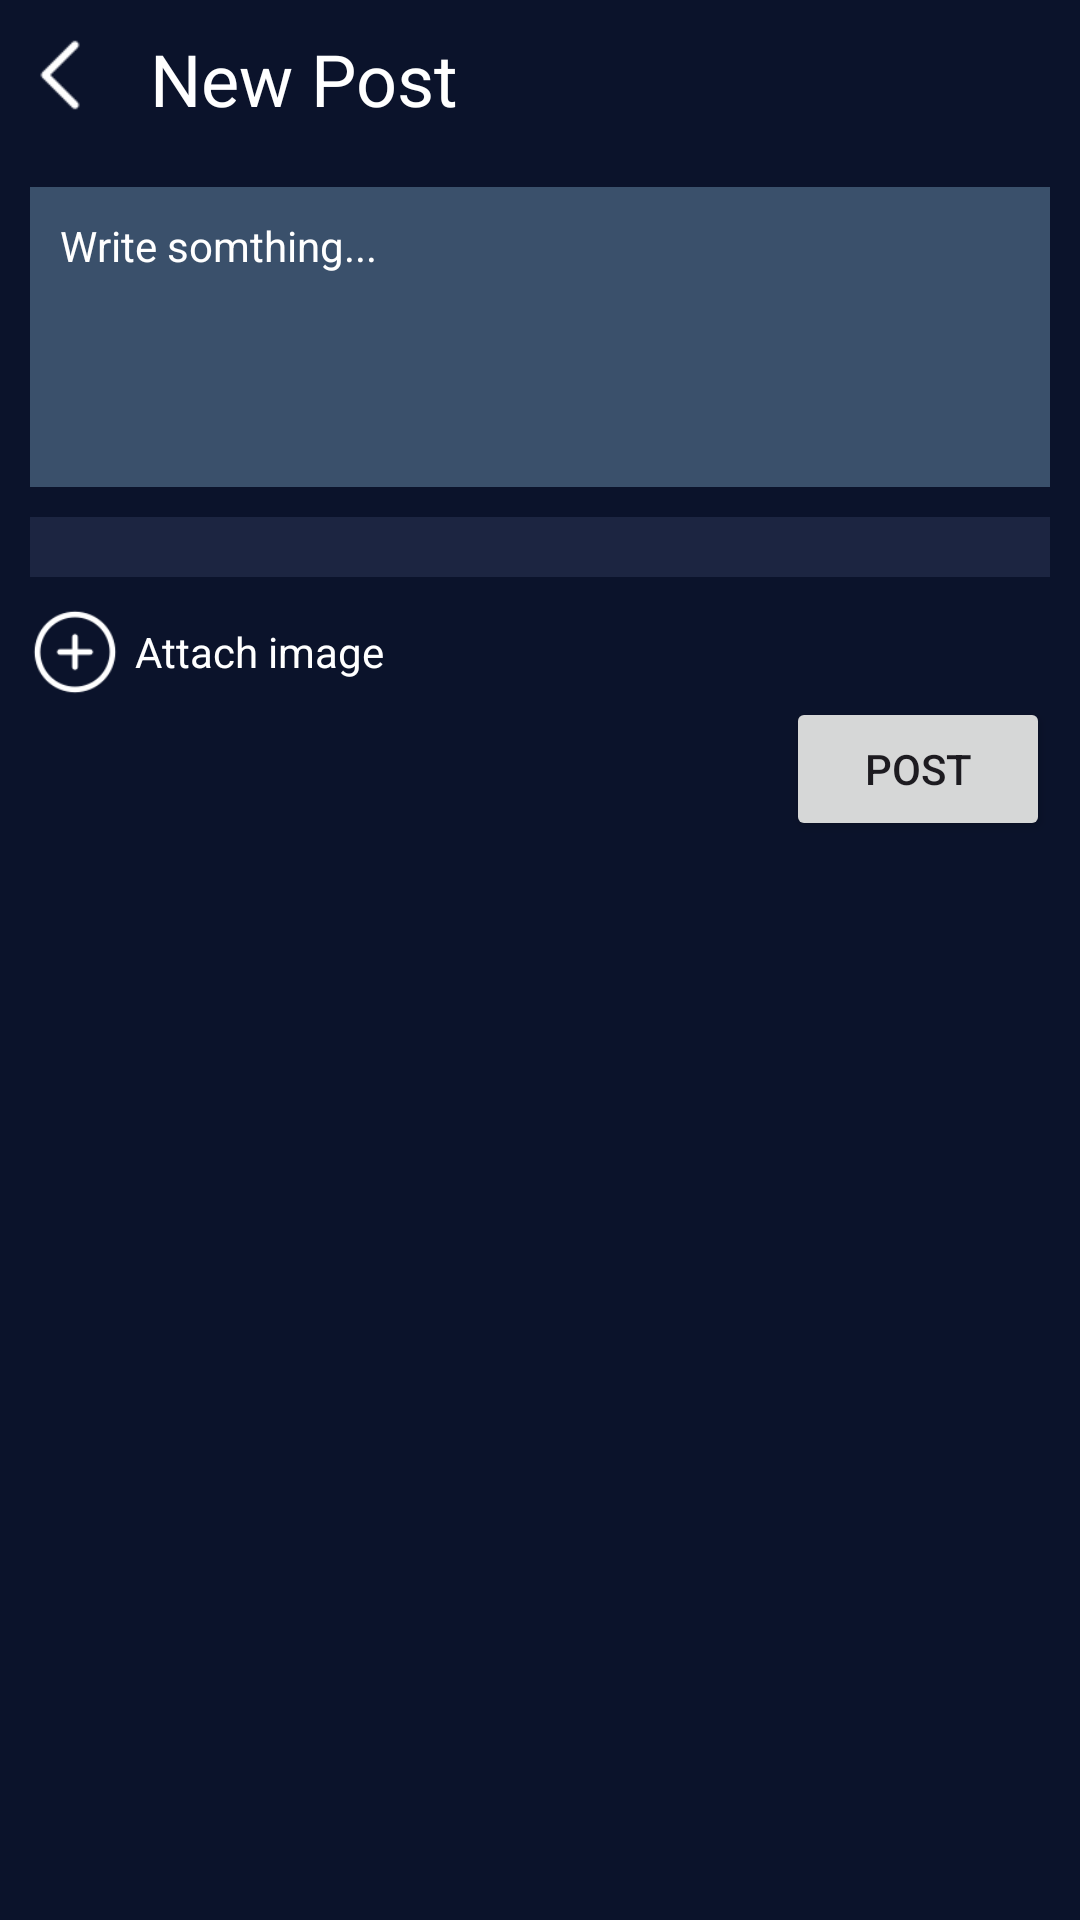

Screen size 1080x1920. Icon name, then its box in pixels as (x1, y1, x2, y2):
back: (40, 40, 80, 110)
circle plus: (34, 611, 116, 693)
